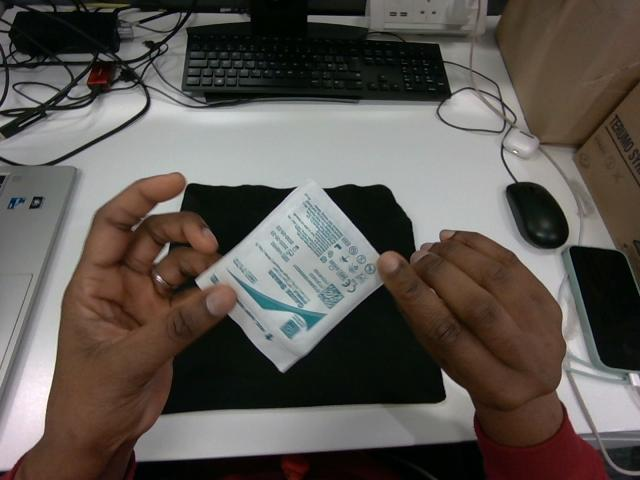gauze: (196, 180, 381, 371)
